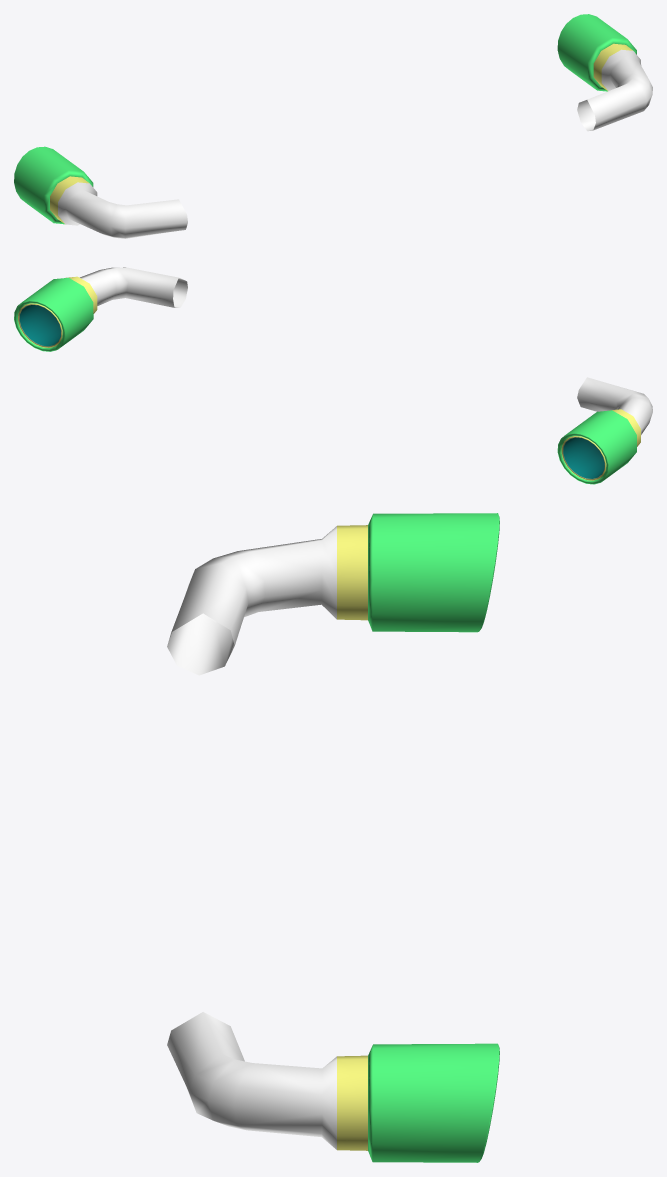
File: Car_Mini_CountrymanJCW_2017_Exhausts_SetFD.fbx
The picture shows the model from 3 angles, top to bottom: view 1: azimuth 30°, elevation 25°; view 2: azimuth 150°, elevation 25°; view 3: azimuth 270°, elevation 25°; orthographic projection. The views are drawn at different scales.
Parts seen in each view (by area): view 1: Exhausts 6; view 2: Exhausts 6; view 3: Exhausts 6.
Part boxes in pixels (x1,y1,x2,y2): Exhausts 6: (14,14,652,238); Exhausts 6: (14,267,652,484); Exhausts 6: (167,513,499,1162).
Size of the model in its own units: 1.17 by 0.1023 by 0.2839.
